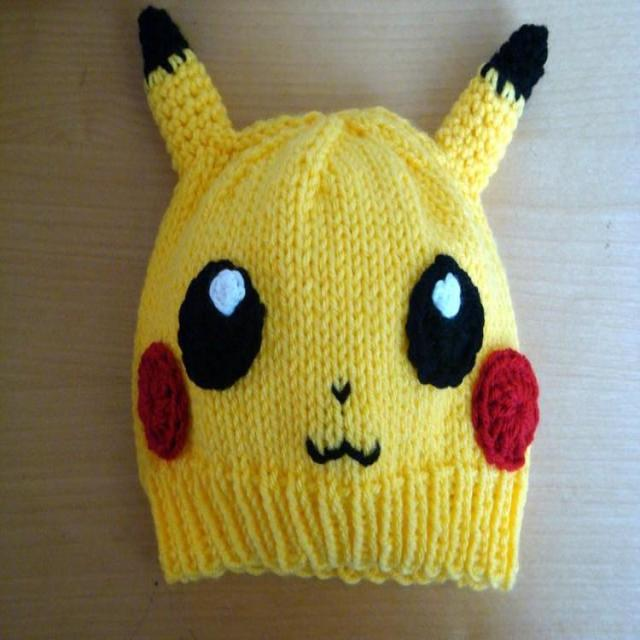pikachu: (137, 0, 545, 475)
